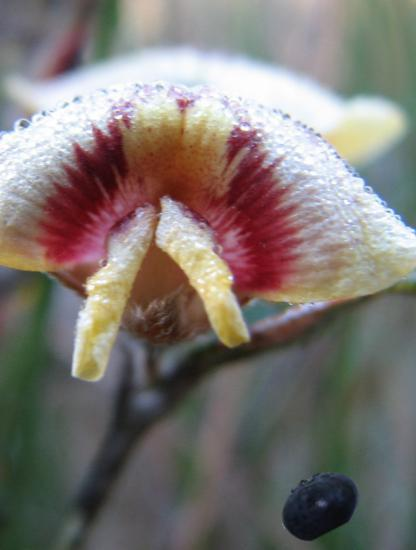Blueberry: (277, 462, 362, 547)
